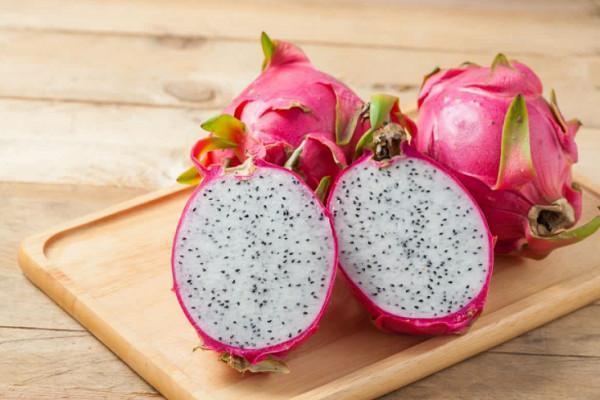dragon-fruit: (169, 160, 342, 358), (411, 58, 584, 254), (325, 150, 497, 337), (205, 62, 373, 187)
